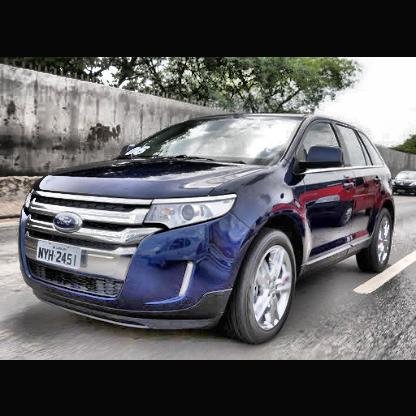Ford Edge SUV 2012: (22, 113, 397, 346)
